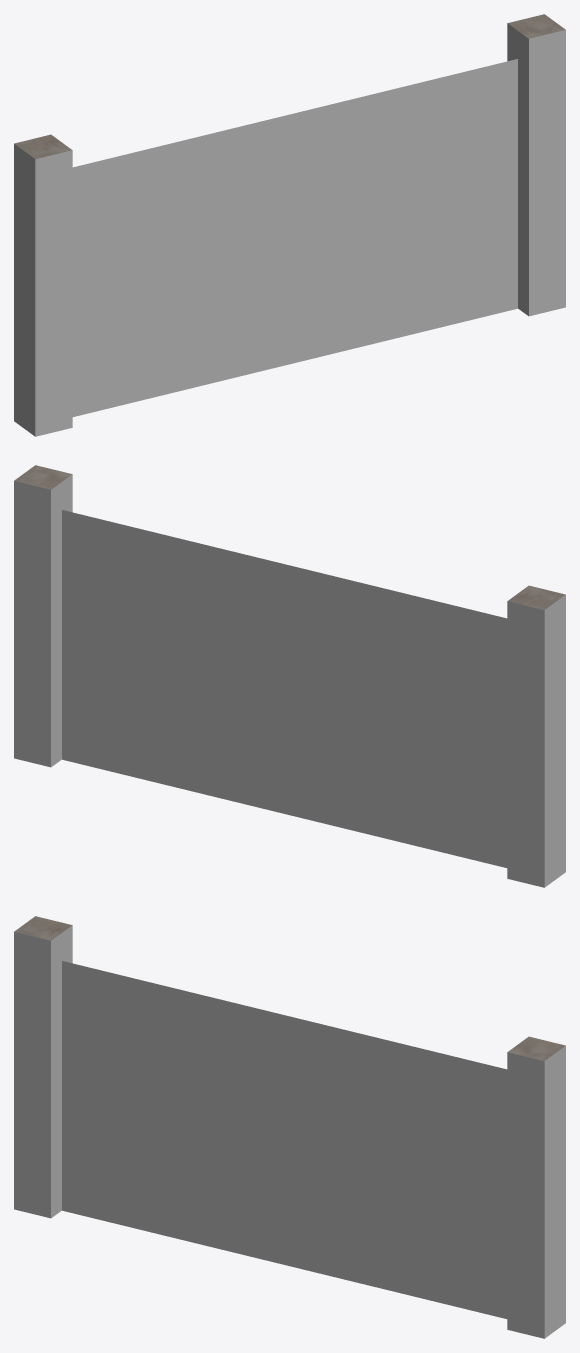
Rendered from wallFence.dae.
3 renders of one model, top to bottom at view 1: azimuth 30°, elevation 25°; view 2: azimuth 150°, elevation 25°; view 3: azimuth 330°, elevation 25°, orthographic.
Visible parts, largest first — view 1: wallFence; view 2: wallFence; view 3: wallFence.
Part boxes in pixels (x1,y1,x2,y2): wallFence: (14, 14, 565, 436); wallFence: (14, 465, 565, 887); wallFence: (14, 916, 565, 1338).
Bounding box in the file's own units: 1 × 0.5 × 0.07.
